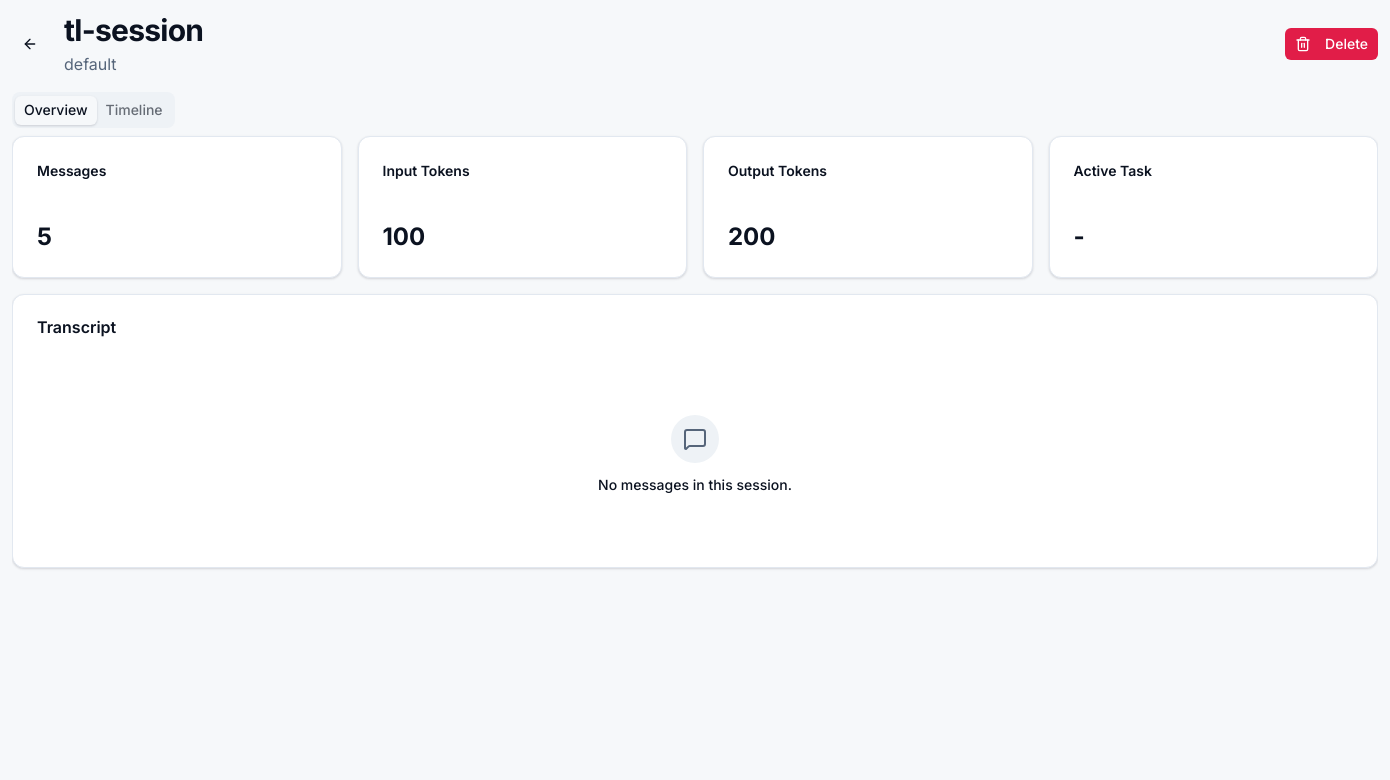
Test: SessionDetail › exposes a Timeline tab that renders the session event timeline
Click the tab "Timeline": (134, 110) [96, 96, 172, 124]
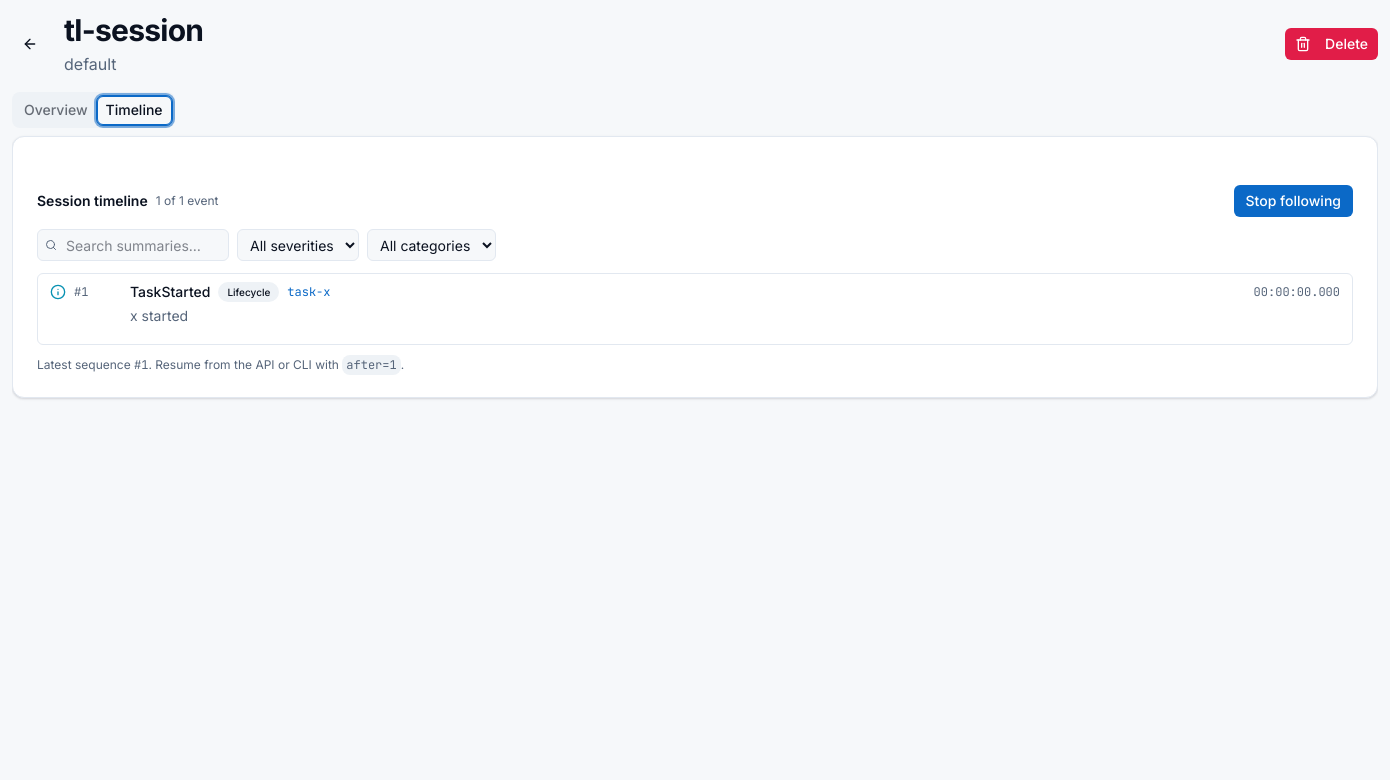
Expected: the heading "Session timeline" is shown, [37, 191, 148, 211]
Expected: the text "x started" is shown, [130, 307, 188, 324]
